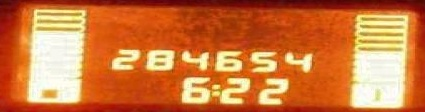2: (218, 76, 250, 104), (256, 78, 288, 105), (106, 48, 140, 69)
4: (178, 49, 208, 70), (282, 51, 312, 72)
5: (246, 50, 278, 72)
6: (178, 76, 208, 103), (213, 49, 243, 71)
8: (143, 49, 175, 70)
X: (208, 82, 220, 96)
